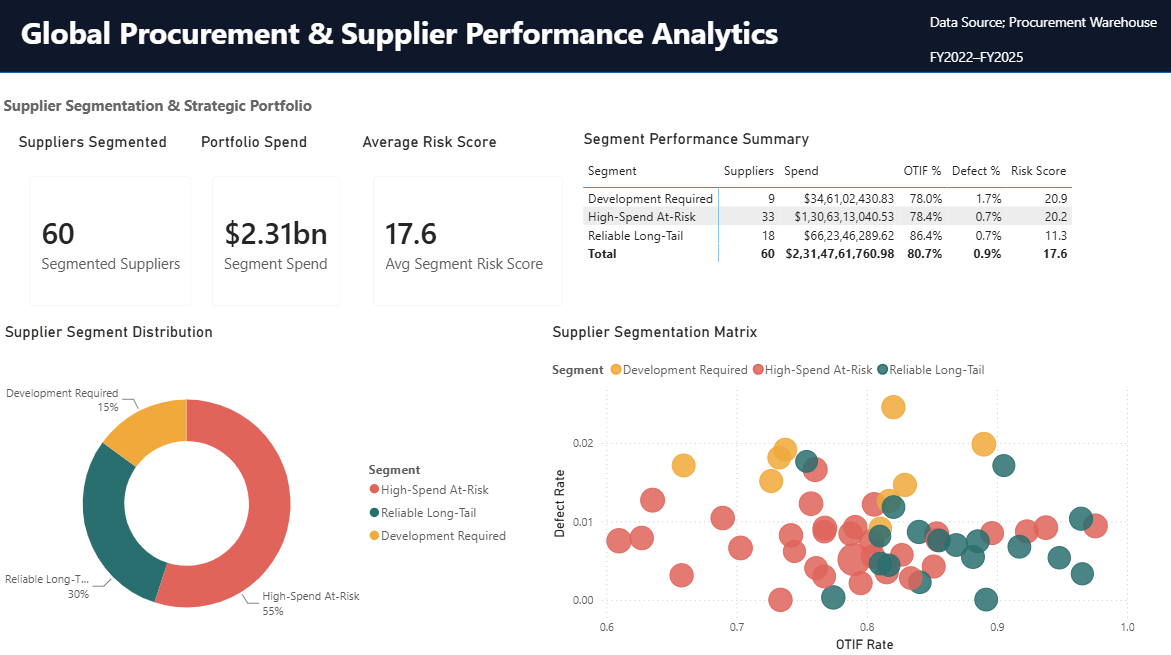

This screenshot's page, from the dashboard's own definition file:
{"tool":"powerbi","page":{"name":"07 Supplier Segmentation","canvas":[1280,720],"ordinal":6},"visuals":[{"type":"shape","box":[9.6,9.6,1271,80],"z":0},{"type":"textbox","box":[28.8,19.2,1085.4,70],"z":1000},{"type":"textbox","box":[1010,19.2,270.3,70],"z":2000},{"type":"textbox","box":[10,108.2,388.8,41.3],"z":3000},{"type":"cardVisual","title":"Suppliers Segmented","fields":{"Data":["_Measures.Segmented Suppliers"]},"box":[25.5,154.2,209.6,205.1],"z":4000},{"type":"cardVisual","title":"Portfolio Spend","fields":{"Data":["_Measures.Segment Spend"]},"box":[223.1,154.2,173.7,205.1],"z":5000},{"type":"cardVisual","title":"Average Risk Score","fields":{"Data":["_Measures.Avg Segment Risk Score"]},"box":[396.8,154.2,239.6,205.1],"z":6000},{"type":"donutChart","title":"Supplier Segment Distribution","fields":{"Category":["SupplierSegments.Segment"],"Y":["Count(SupplierSegments.SupplierKey)"]},"box":[10.5,359.4,561.5,360.9],"z":7000},{"type":"scatterChart","title":"Supplier Segmentation Matrix","fields":{"Category":["SupplierSegments.SupplierName"],"Series":["SupplierSegments.Segment"],"Size":["Sum(SupplierSegments.TotalSpend)"],"X":["Avg(SupplierSegments.OTIFRate)"],"Y":["Avg(SupplierSegments.DefectRate)"]},"box":[602,359.4,639.4,360.9],"z":8000},{"type":"pivotTable","title":"Segment Performance Summary","fields":{"Rows":["SupplierSegments.Segment"],"Values":["Count(SupplierSegments.SupplierKey)","Sum(SupplierSegments.TotalSpend)","Avg(SupplierSegments.OTIFRate)","Avg(SupplierSegments.DefectRate)","Avg(SupplierSegments.SupplierRiskScore)"]},"box":[636.4,149.7,543.6,209.6],"z":9000}]}

Visuals, with their boxes in screenshot pixels (x1, y1, x2, y2), scaled from the page's 1280x720 canvas onto the 1171x655 screenshot:
shape: [left=9, top=9, right=1170, bottom=82]
textbox: [left=26, top=17, right=1019, bottom=81]
textbox: [left=924, top=17, right=1170, bottom=81]
textbox: [left=9, top=98, right=365, bottom=136]
"Suppliers Segmented" cardVisual: [left=23, top=140, right=215, bottom=327]
"Portfolio Spend" cardVisual: [left=204, top=140, right=363, bottom=327]
"Average Risk Score" cardVisual: [left=363, top=140, right=582, bottom=327]
"Supplier Segment Distribution" donutChart: [left=10, top=327, right=523, bottom=654]
"Supplier Segmentation Matrix" scatterChart: [left=551, top=327, right=1136, bottom=654]
"Segment Performance Summary" pivotTable: [left=582, top=136, right=1080, bottom=327]
